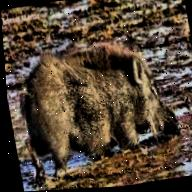boar: (7, 29, 189, 187)
